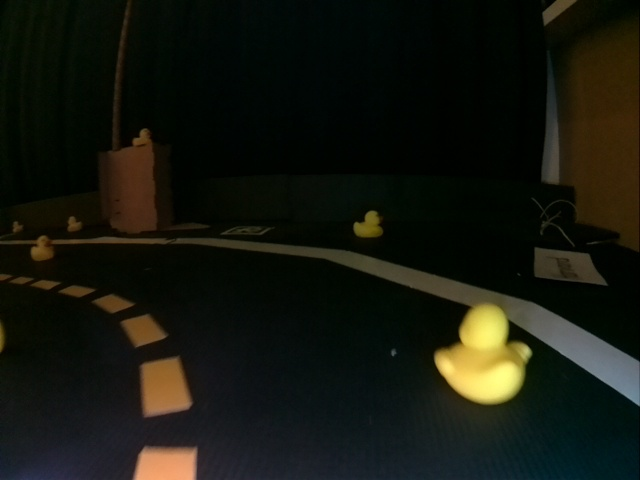Duckie: (434, 303, 532, 405), (355, 212, 384, 236), (31, 238, 54, 256), (132, 127, 150, 146), (69, 217, 82, 231), (12, 223, 22, 230)
QR code: (222, 224, 273, 234)
